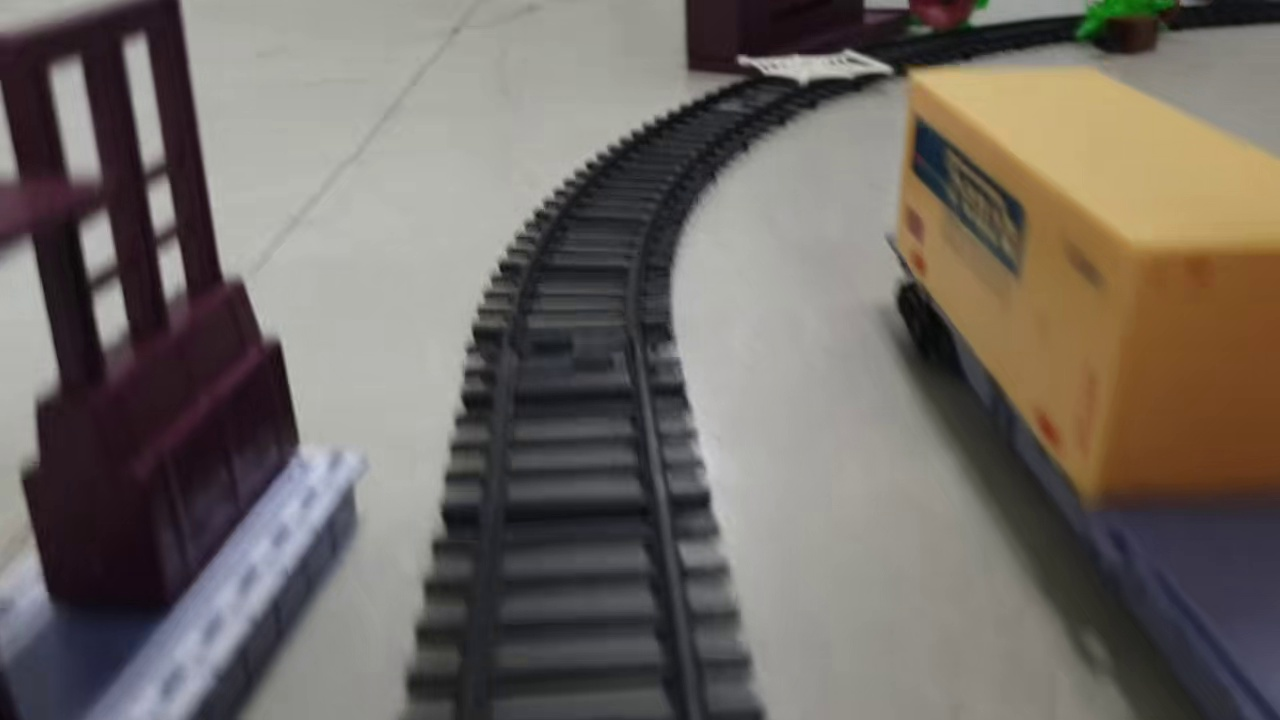box: (1092, 15, 1161, 53)
tree: (1074, 1, 1159, 49), (908, 1, 992, 32)
web: (736, 46, 898, 87)
